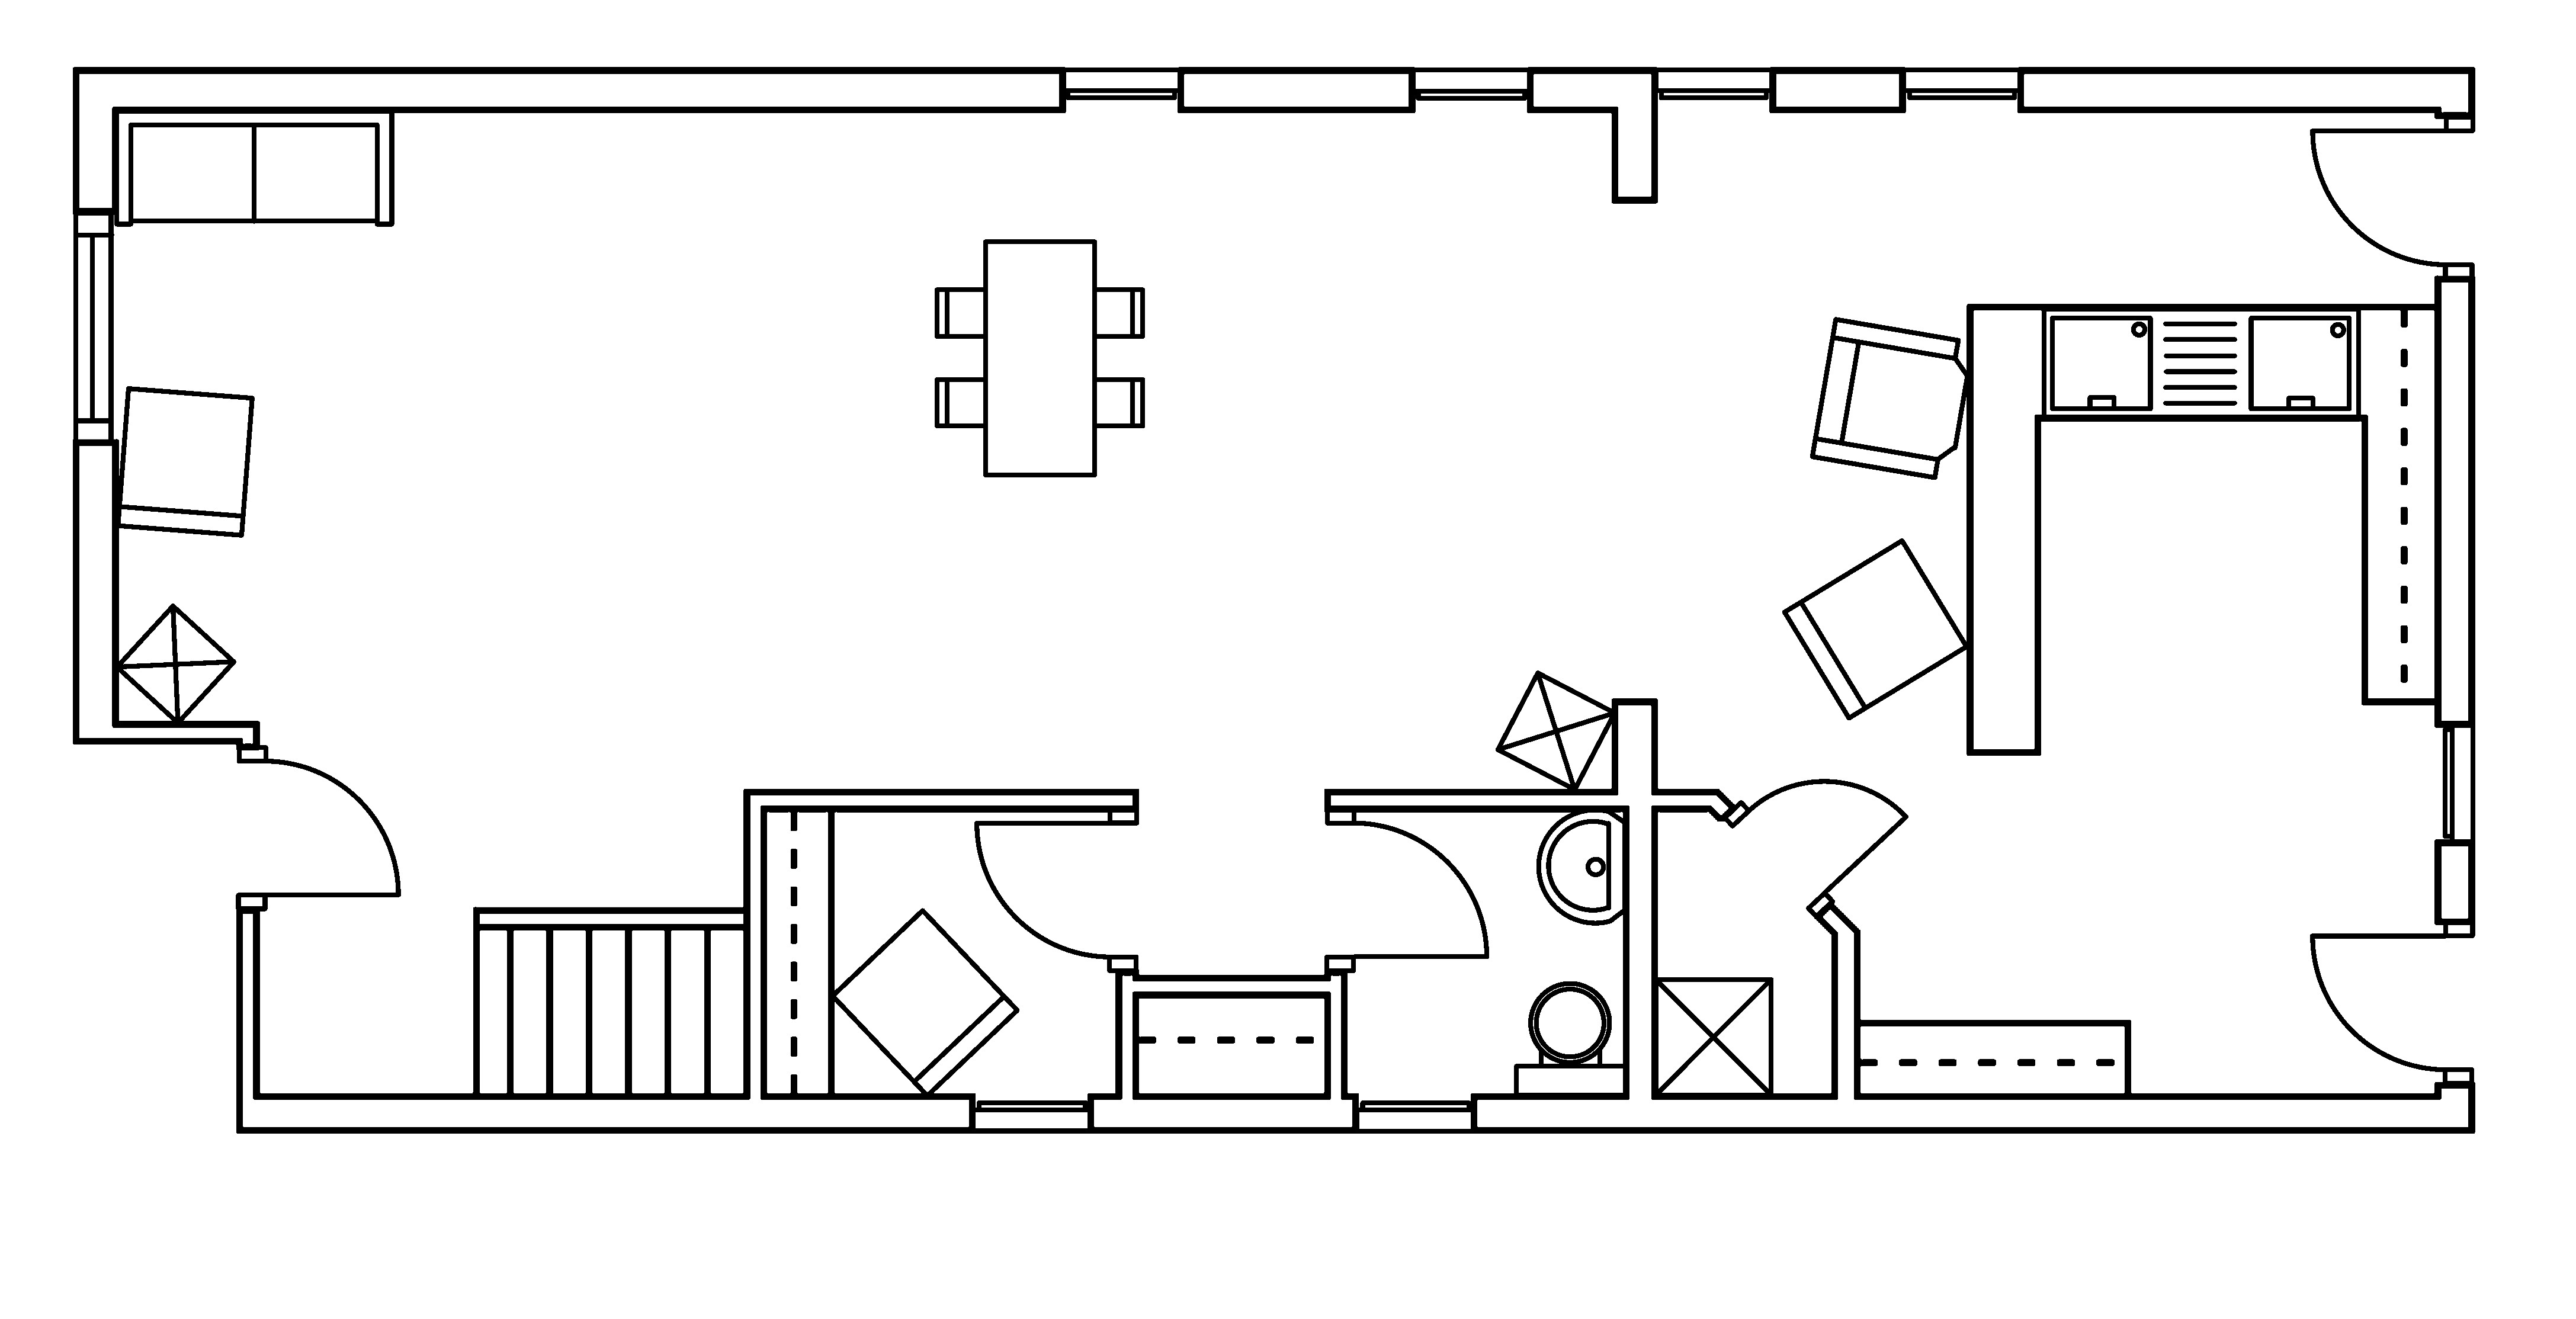armchair: (1808, 316, 1971, 479)
coffee_table: (113, 602, 237, 725), (1493, 670, 1618, 792), (1651, 976, 1774, 1097)
dining_table: (933, 239, 1145, 478)
large_sink: (1513, 981, 1628, 1097)
large_sofa: (113, 108, 395, 227)
small_sink: (1535, 808, 1628, 925)
small_sofa: (829, 907, 1021, 1099), (1781, 537, 1969, 720), (114, 385, 254, 538)
twin_sink: (2040, 305, 2361, 421)
